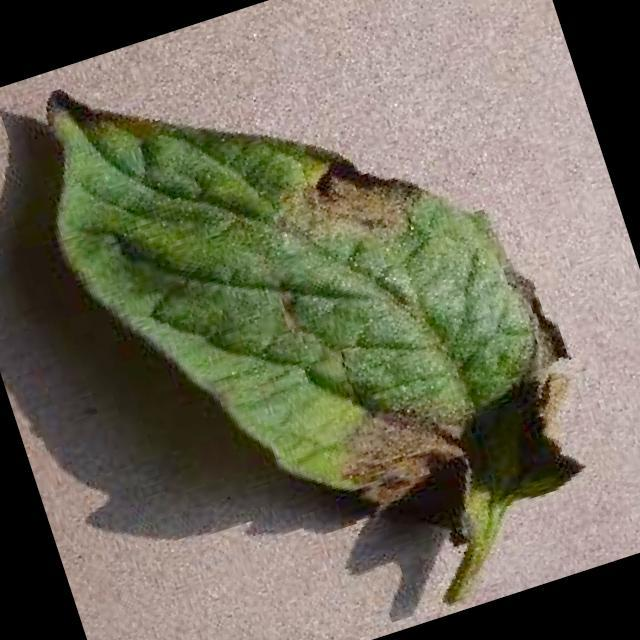Tomato late blight leaf: (14, 0, 611, 631)
